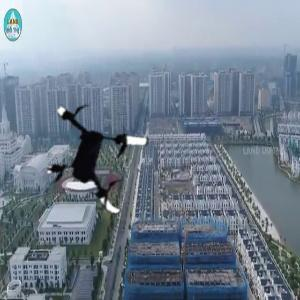drone: (38, 95, 164, 221)
